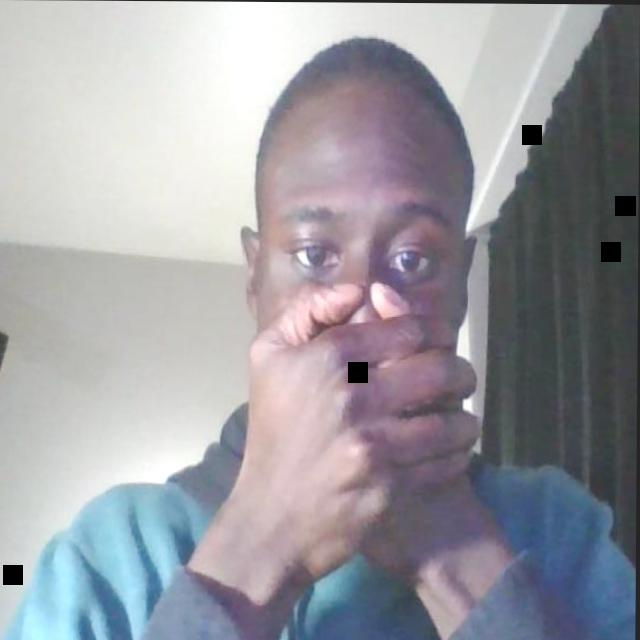NO-Mask: (253, 124, 473, 359)
